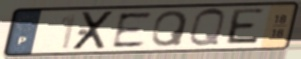1: (59, 12, 79, 50)
E: (221, 7, 267, 46), (110, 10, 154, 50)
Q: (186, 7, 228, 50), (149, 9, 190, 49)
X: (69, 10, 118, 52)
